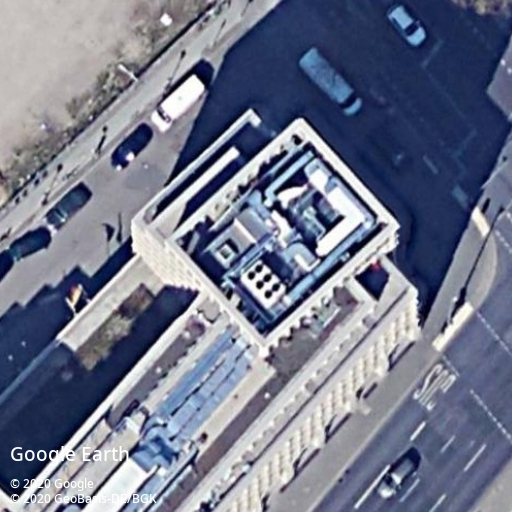Chiller: (241, 260, 287, 308)
